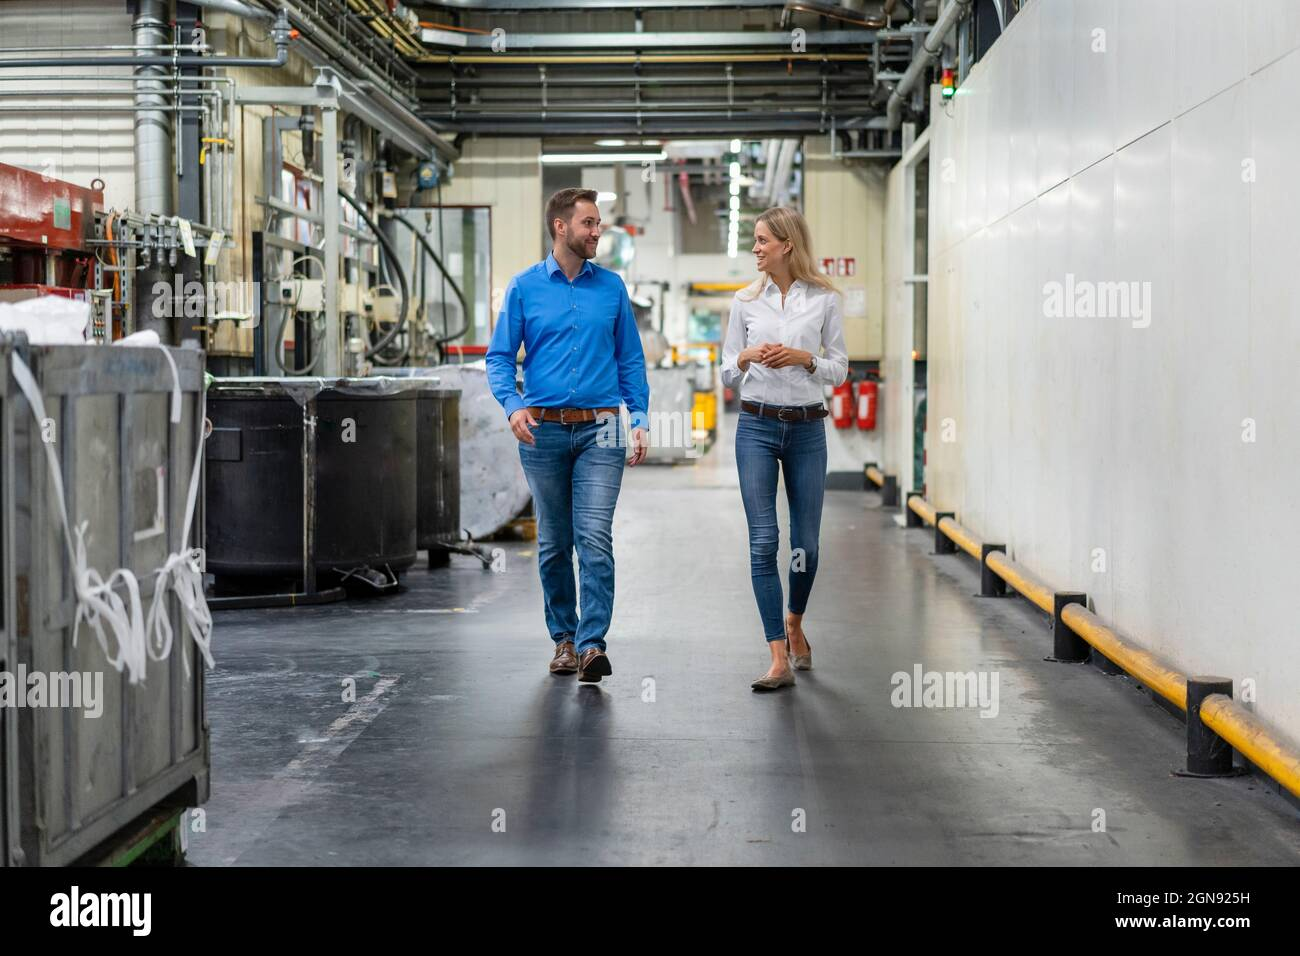person: (488, 189, 649, 680), (717, 205, 847, 695)
